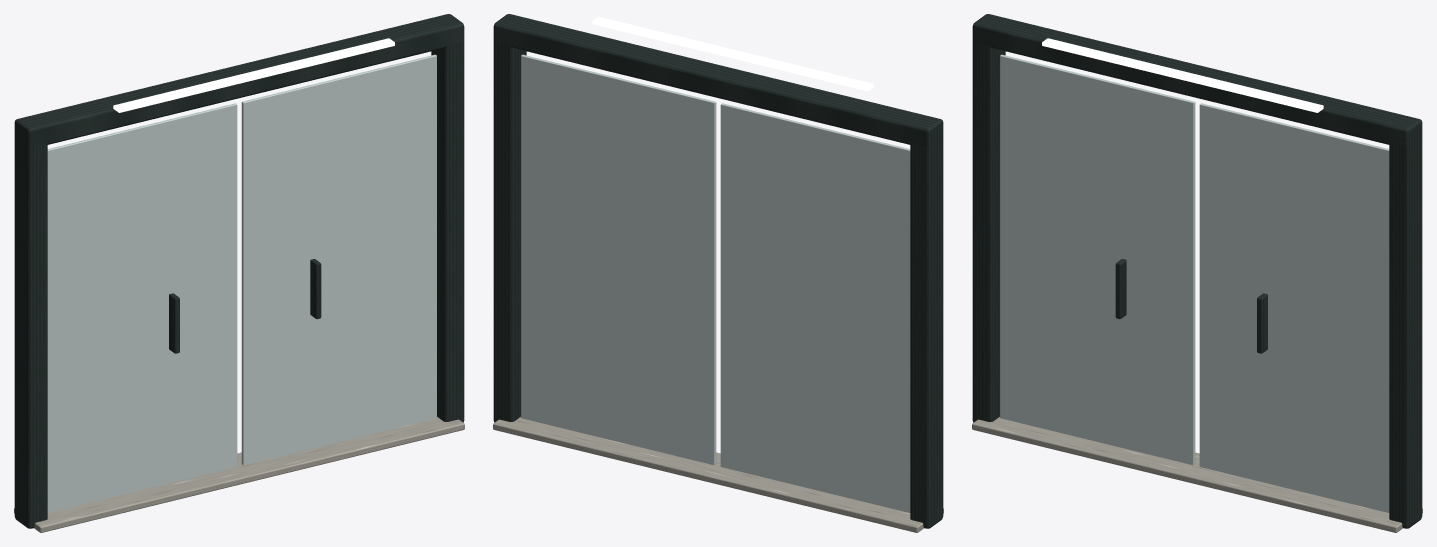
Rendered from entry-portal.glb.
3 views of the same model, side by side, from view 1: azimuth 30°, elevation 25°; view 2: azimuth 150°, elevation 25°; view 3: azimuth 330°, elevation 25° (orthographic).
Visible parts, largest first — view 1: Entry_Glass_Right, Entry_Glass_Left, Entry_Left, Entry_Header, Entry_Right, Entry_Threshold, Entry_Canopy_Light, Entry_Handle_1.88, Entry_Handle_-1.88; view 2: Entry_Glass_Right, Entry_Glass_Left, Entry_Header, Entry_Left, Entry_Right, Entry_Threshold, Entry_Canopy_Light; view 3: Entry_Glass_Left, Entry_Glass_Right, Entry_Right, Entry_Header, Entry_Left, Entry_Threshold, Entry_Canopy_Light, Entry_Handle_-1.88, Entry_Handle_1.88.
Part boxes in pixels (<box>): Entry_Glass_Right: <box>241,54,436,465</box>; Entry_Glass_Left: <box>47,103,237,512</box>; Entry_Left: <box>14,133,47,528</box>; Entry_Header: <box>14,14,464,147</box>; Entry_Right: <box>431,32,464,422</box>; Entry_Threshold: <box>14,417,464,532</box>; Entry_Canopy_Light: <box>113,38,394,112</box>; Entry_Handle_1.88: <box>310,259,321,319</box>; Entry_Handle_-1.88: <box>169,293,179,353</box>; Entry_Glass_Right: <box>521,54,716,465</box>; Entry_Glass_Left: <box>720,103,910,512</box>; Entry_Header: <box>493,14,943,147</box>; Entry_Left: <box>910,137,943,528</box>; Entry_Right: <box>493,41,526,422</box>; Entry_Threshold: <box>493,417,943,532</box>; Entry_Canopy_Light: <box>592,16,873,91</box>; Entry_Glass_Left: <box>1000,54,1195,465</box>; Entry_Glass_Right: <box>1199,103,1389,512</box>; Entry_Right: <box>1389,136,1422,528</box>; Entry_Header: <box>972,14,1422,147</box>; Entry_Left: <box>972,41,1005,422</box>; Entry_Threshold: <box>972,417,1422,532</box>; Entry_Canopy_Light: <box>1042,38,1323,112</box>; Entry_Handle_-1.88: <box>1115,259,1126,319</box>; Entry_Handle_1.88: <box>1257,293,1267,353</box>.
Bounding box in the file's own units: 8.22 × 7.36 × 1.02.
5 materials, 3 textured.
